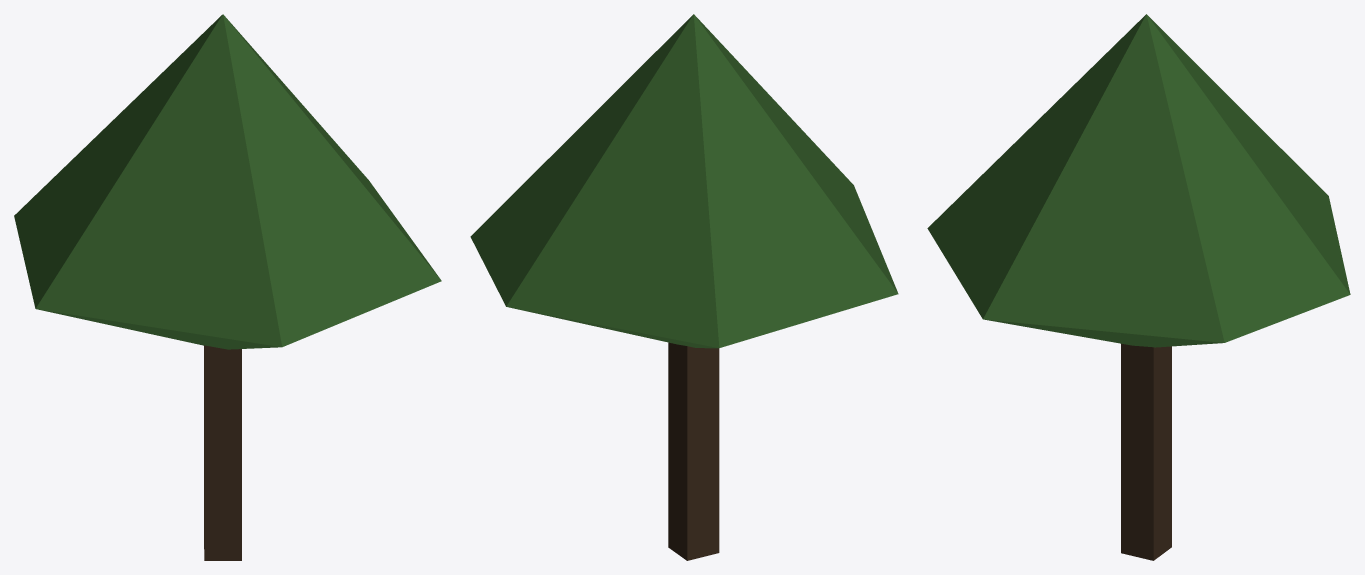
3 renders of one model, left to right at view 1: azimuth 30°, elevation 25°; view 2: azimuth 150°, elevation 25°; view 3: azimuth 270°, elevation 25°, orthographic.
Parts seen in each view (by area): view 1: Props_Foliage__r-2c4, Props_Solid__r-2c4-col; view 2: Props_Foliage__r-2c4, Props_Solid__r-2c4-col; view 3: Props_Foliage__r-2c4, Props_Solid__r-2c4-col.
Boxes of the visible parts, x1,y1,x2,y2 form: Props_Foliage__r-2c4: (14,14,441,349); Props_Solid__r-2c4-col: (204,345,241,560); Props_Foliage__r-2c4: (470,14,898,348); Props_Solid__r-2c4-col: (668,342,719,560); Props_Foliage__r-2c4: (927,14,1350,347); Props_Solid__r-2c4-col: (1121,343,1171,560).
Size of the model in its own units: 5.16 by 6.96 by 4.98.
